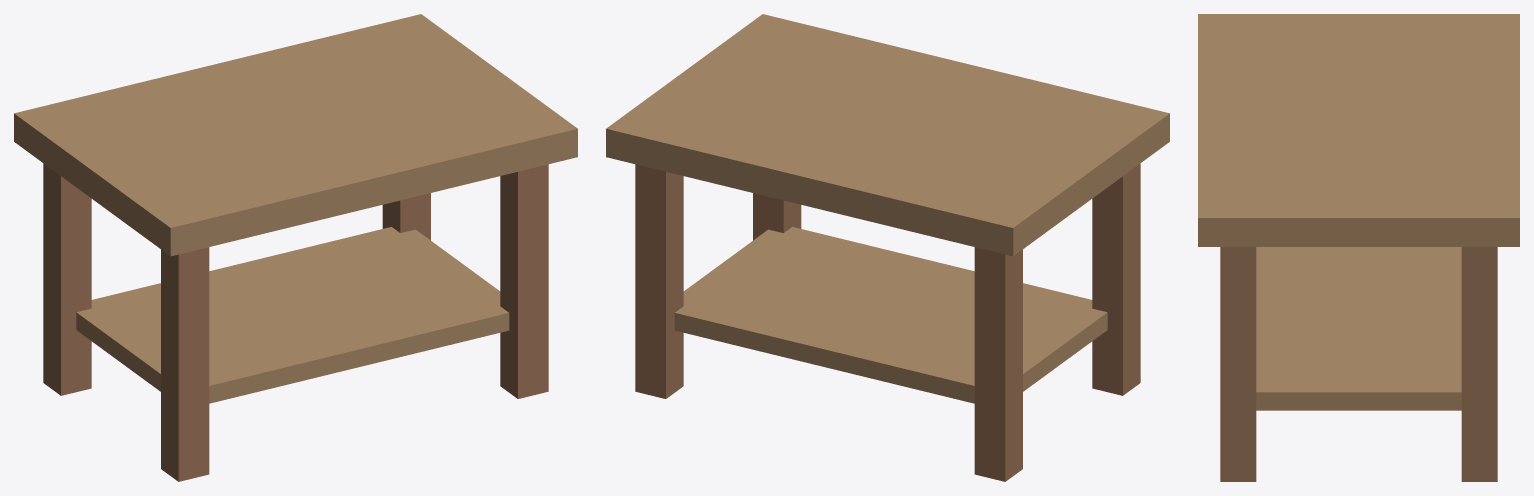
Rendered from interior_table.glb.
The picture shows the model from 3 angles, left to right: view 1: azimuth 30°, elevation 25°; view 2: azimuth 150°, elevation 25°; view 3: azimuth 270°, elevation 25°; orthographic projection. The views are drawn at different scales.
Visible parts, largest first — view 1: top, shelf, leg.004, leg.006, leg.005, leg.007; view 2: top, shelf, leg.005, leg.007, leg.004, leg.006; view 3: top, shelf, leg.006, leg.007.
Boxes of the visible parts, <box> form: top: <box>14,14,577,256</box>; shelf: <box>76,227,509,403</box>; leg.004: <box>161,247,209,481</box>; leg.006: <box>500,164,548,398</box>; leg.005: <box>43,163,91,395</box>; leg.007: <box>382,193,430,240</box>; top: <box>606,14,1169,256</box>; shelf: <box>674,227,1107,403</box>; leg.005: <box>974,247,1022,481</box>; leg.007: <box>635,164,683,398</box>; leg.004: <box>1092,163,1140,395</box>; leg.006: <box>753,193,801,240</box>; top: <box>1198,14,1519,246</box>; shelf: <box>1256,247,1461,410</box>; leg.006: <box>1220,247,1256,481</box>; leg.007: <box>1461,247,1497,481</box>.
Bounding box in the file's own units: 1.2 × 0.75 × 0.8.
